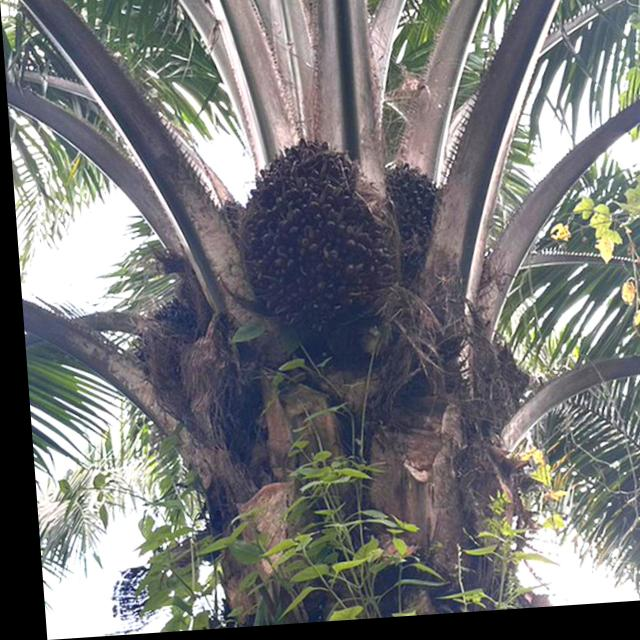unripe: (219, 125, 412, 380), (100, 287, 235, 424), (364, 155, 464, 303)
